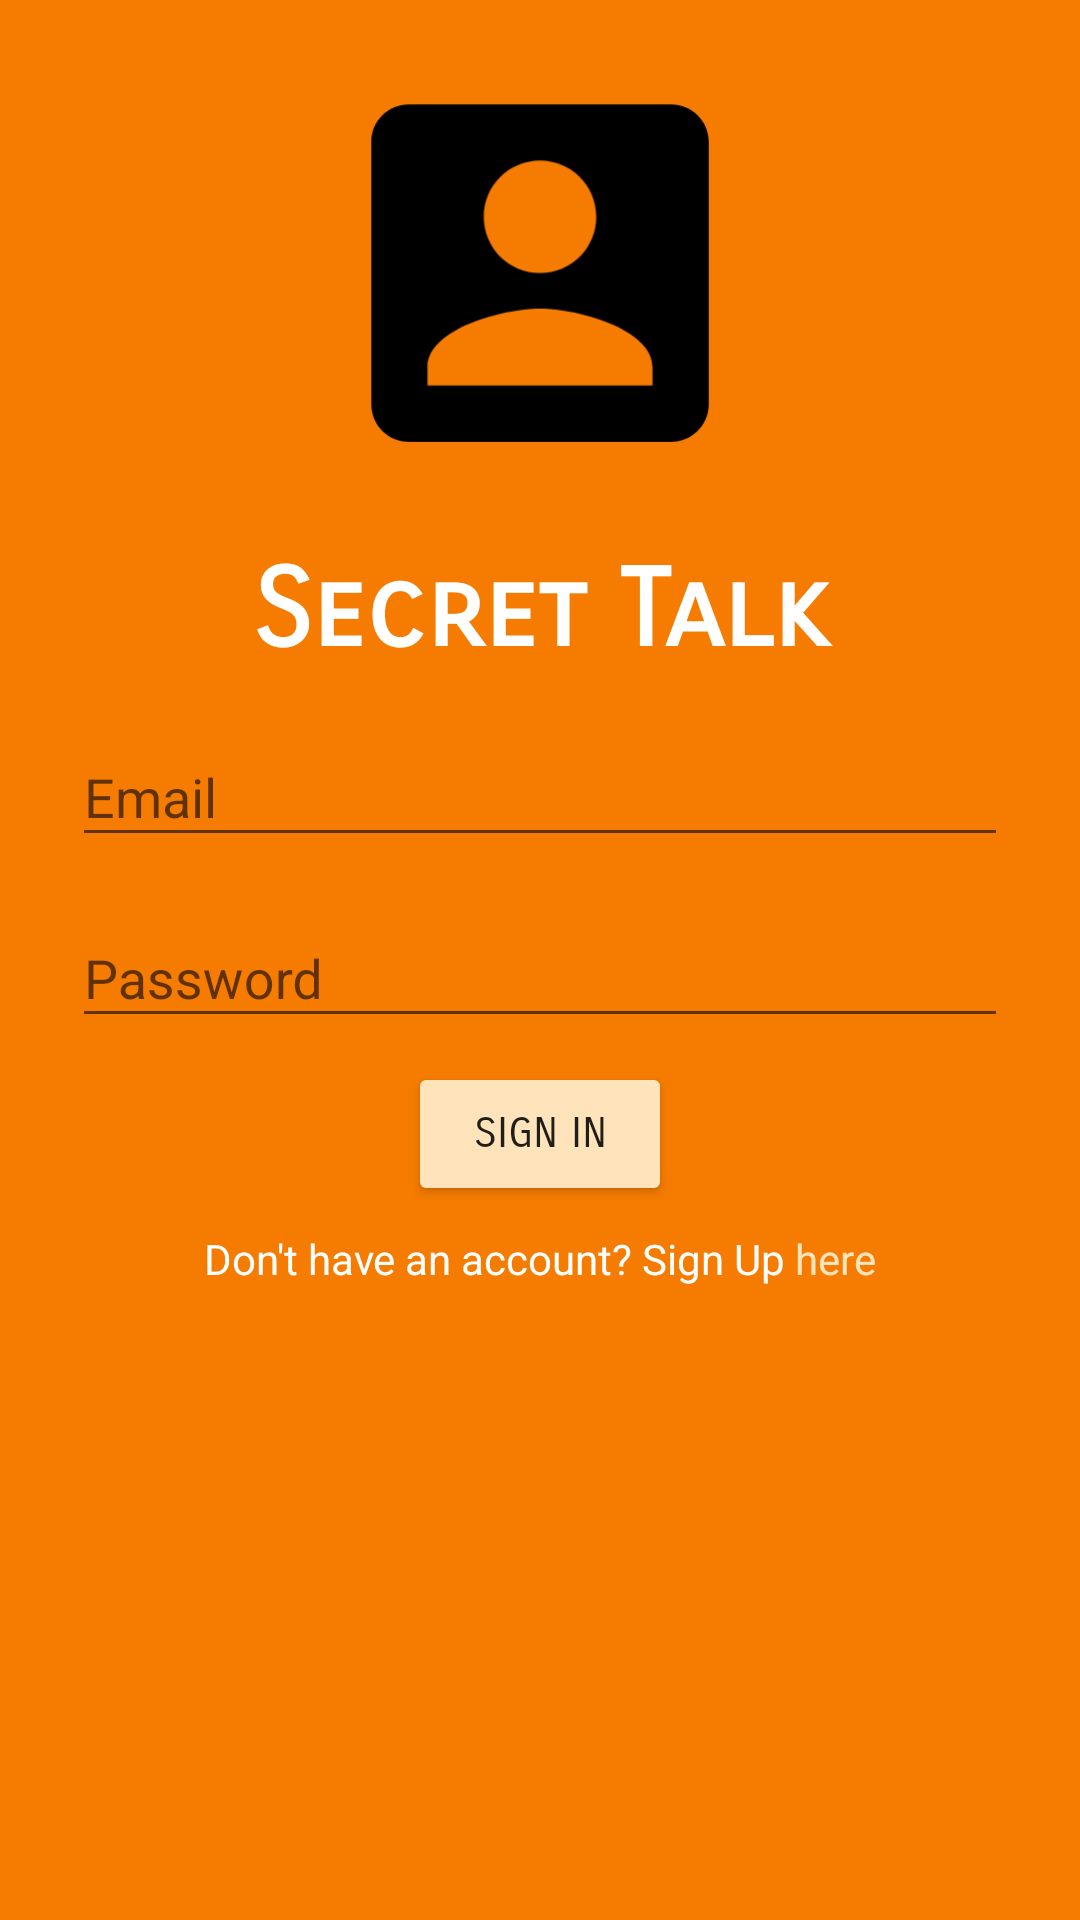

Locate icon controls on the screen. Image size 1080 × 1920, boxes as (x1, y1, x2, y2).
account box: (371, 104, 709, 442)
